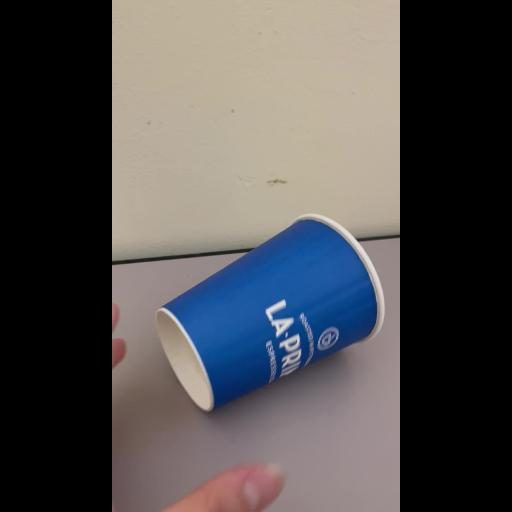lp_paper_cup: (144, 210, 388, 414)
